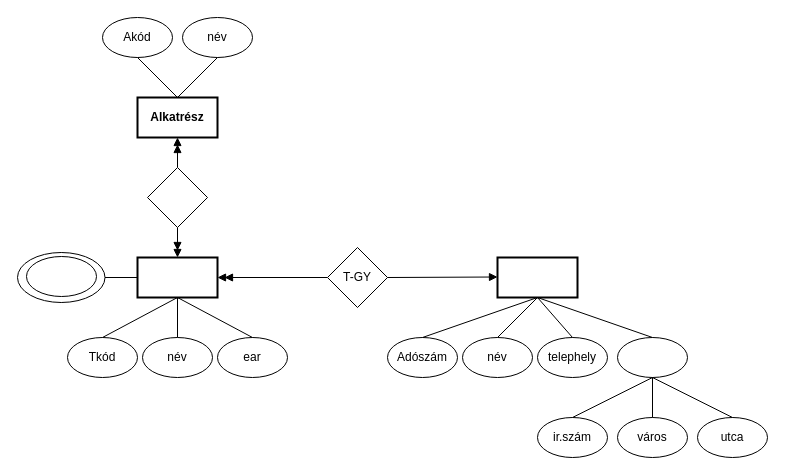
Some shapes in this 785 by 475 pixel diagram are drawn without their labels. The shapes that lost their labels are listed below. From the top down, each one's box as (x1, y1, x2, y2) in pixels, then its label:
(146, 166, 208, 228): A-T
(26, 256, 96, 296): csom.egys.
(136, 256, 218, 298): Termék
(496, 256, 578, 298): Gyártó
(616, 336, 688, 378): postai cím
